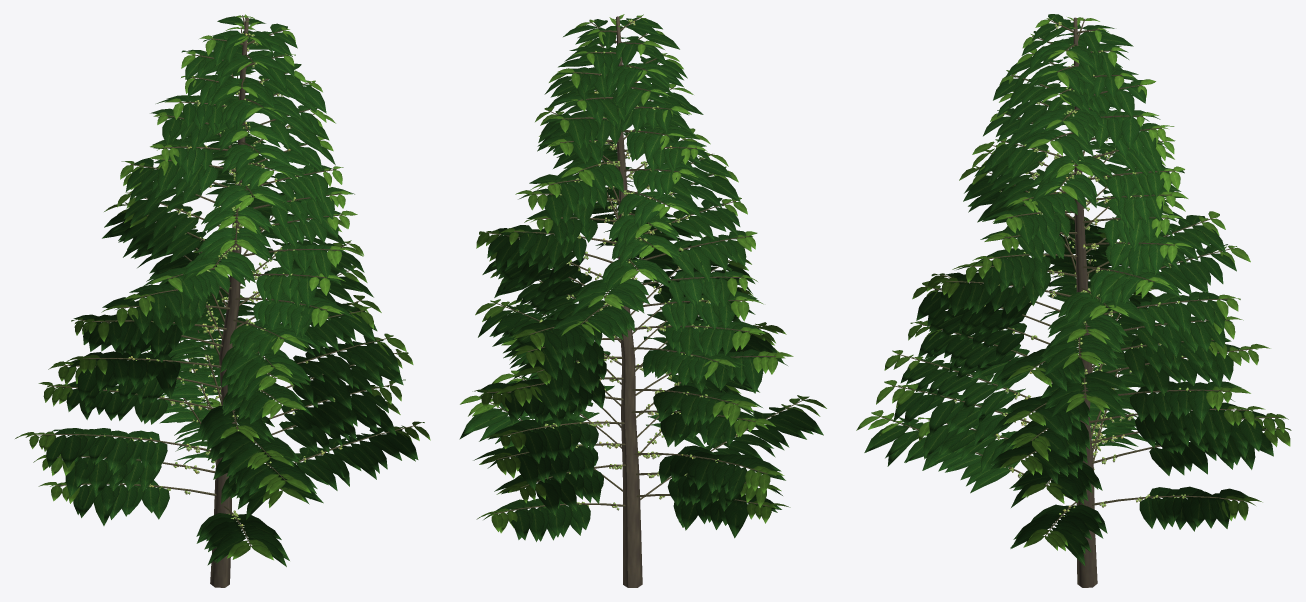
Rendered from coffea-liberica-mature-lod0.glb.
3 views of the same model, side by side, from view 1: azimuth 30°, elevation 25°; view 2: azimuth 150°, elevation 25°; view 3: azimuth 270°, elevation 25° (orthographic). The views are drawn at different scales.
Visible parts, largest first — view 1: coffee_leaves, coffee_bark, coffee_cherries_green; view 2: coffee_leaves, coffee_bark, coffee_cherries_green; view 3: coffee_leaves, coffee_bark, coffee_cherries_green.
Boxes of the visible parts, <box> form: coffee_leaves: <box>15,14,430,566</box>; coffee_bark: <box>33,15,416,587</box>; coffee_cherries_green: <box>100,33,342,527</box>; coffee_leaves: <box>459,14,826,541</box>; coffee_bark: <box>486,16,804,587</box>; coffee_cherries_green: <box>539,19,739,510</box>; coffee_leaves: <box>856,14,1291,565</box>; coffee_bark: <box>878,17,1278,587</box>; coffee_cherries_green: <box>954,21,1190,516</box>.
Bounding box in the file's own units: 2.81 × 4.22 × 2.88.
4 materials, 2 textured.
